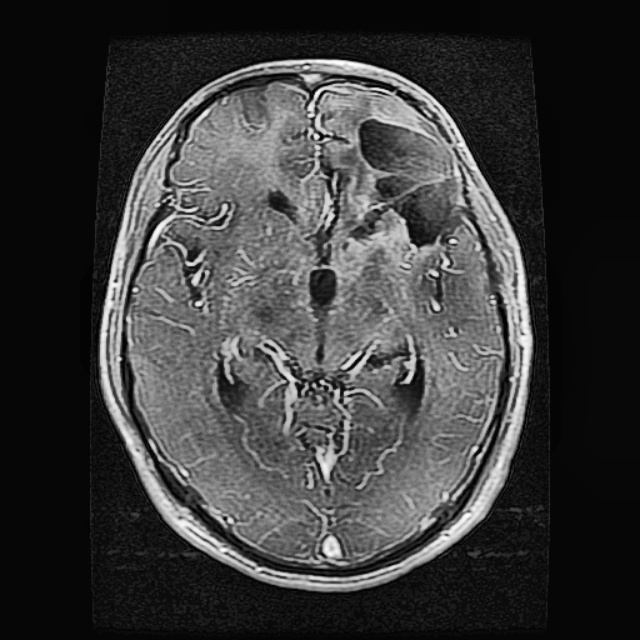Glioma: (349, 117, 459, 244)
